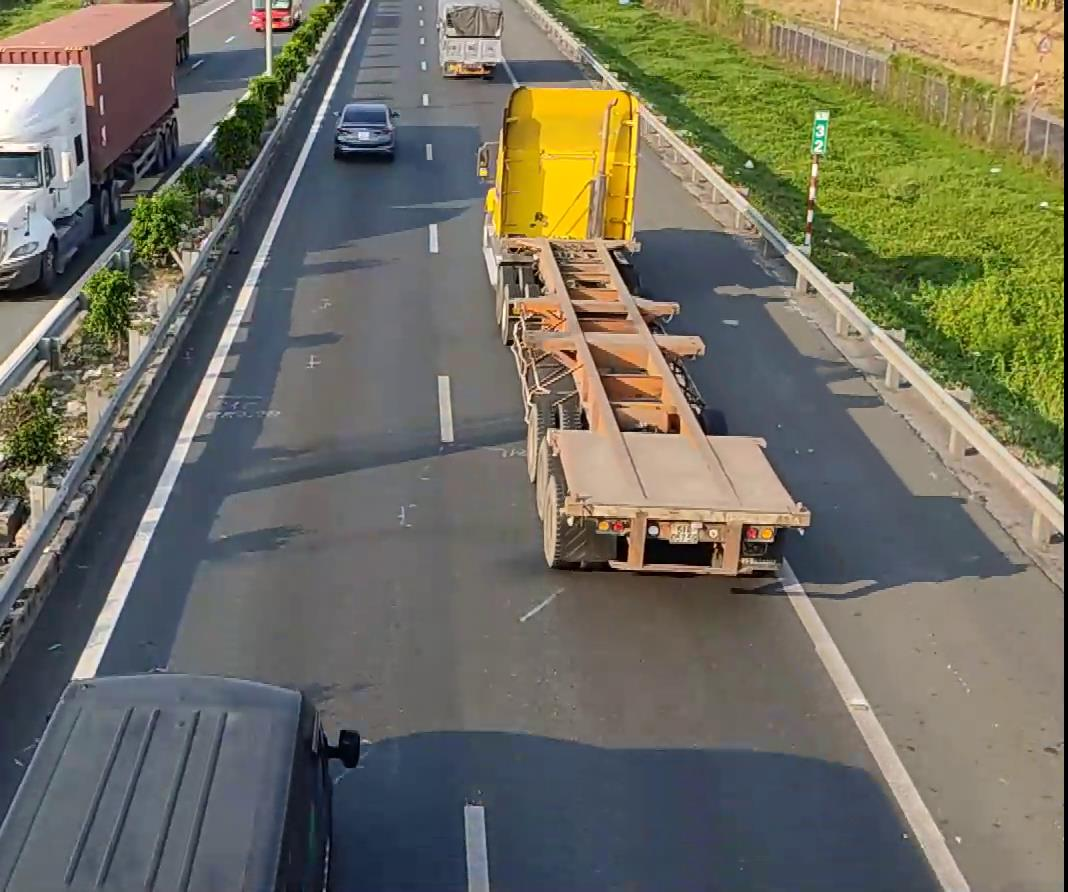car: (0, 682, 371, 884)
container: (479, 76, 809, 595), (0, 4, 184, 279)
truck: (435, 0, 504, 78)
